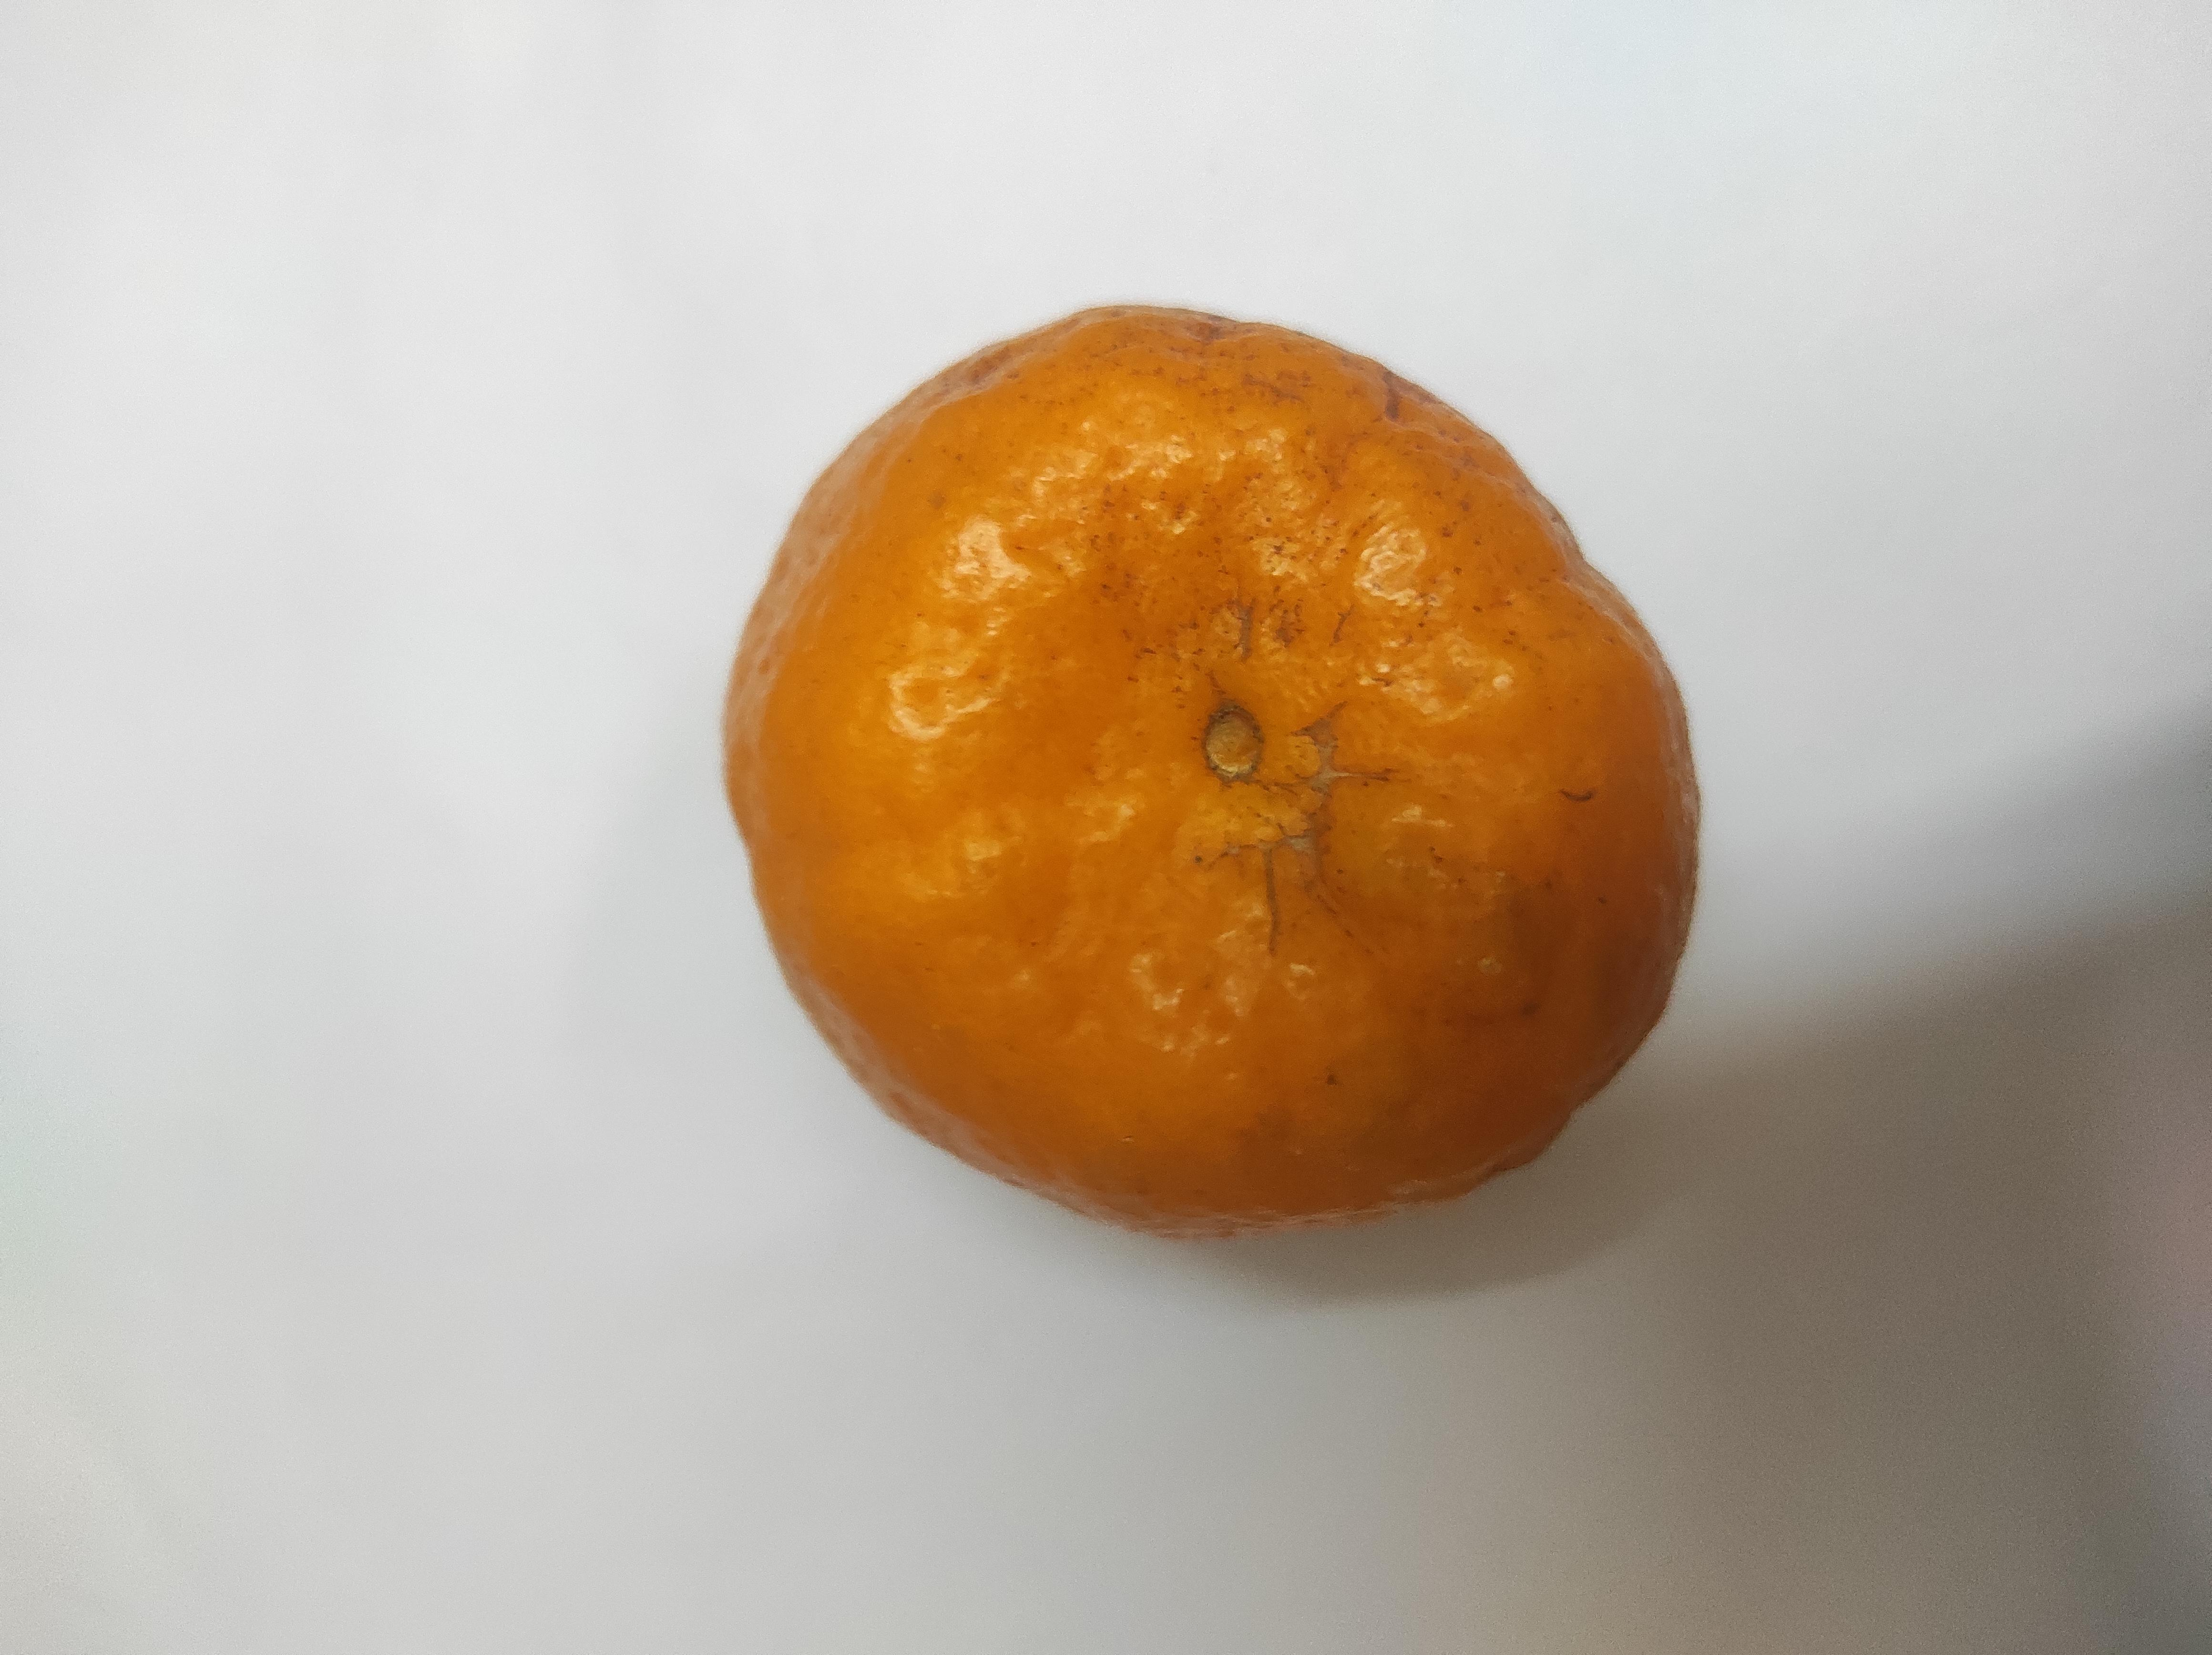Ripe: (729, 304, 1702, 1229)
